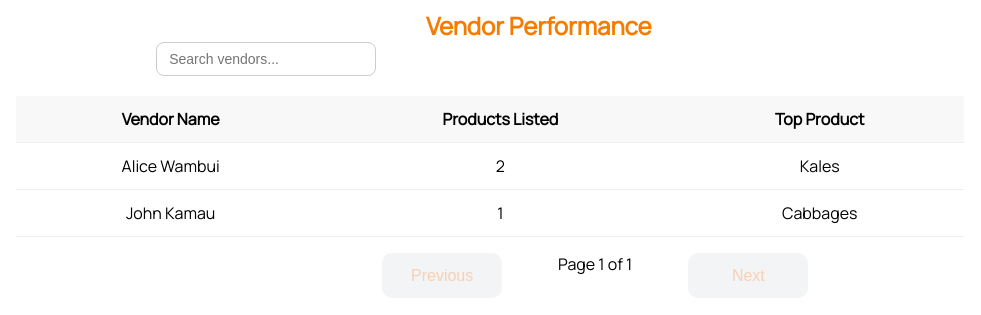
Test: VendorPerformance › filters vendors by search query
Type "Alice" into the field with placeholder "Search vendors..." at coordinates (266, 59), box [156,42,376,76]
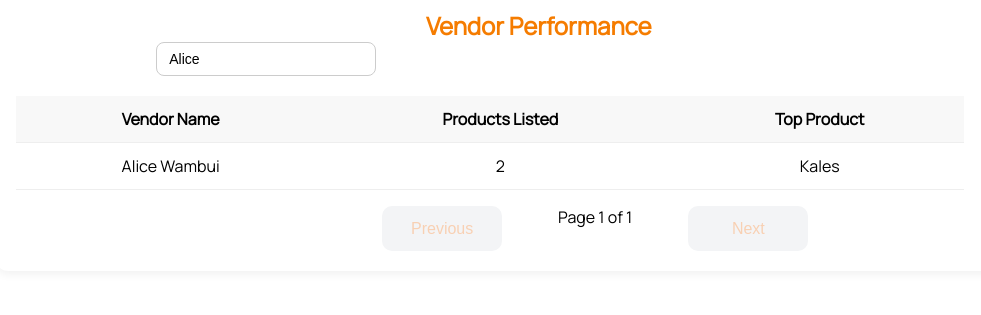
Check: the text "Alice Wambui" is shown, box [16,142,325,190]
Check: the text "John Kamau" is gone
